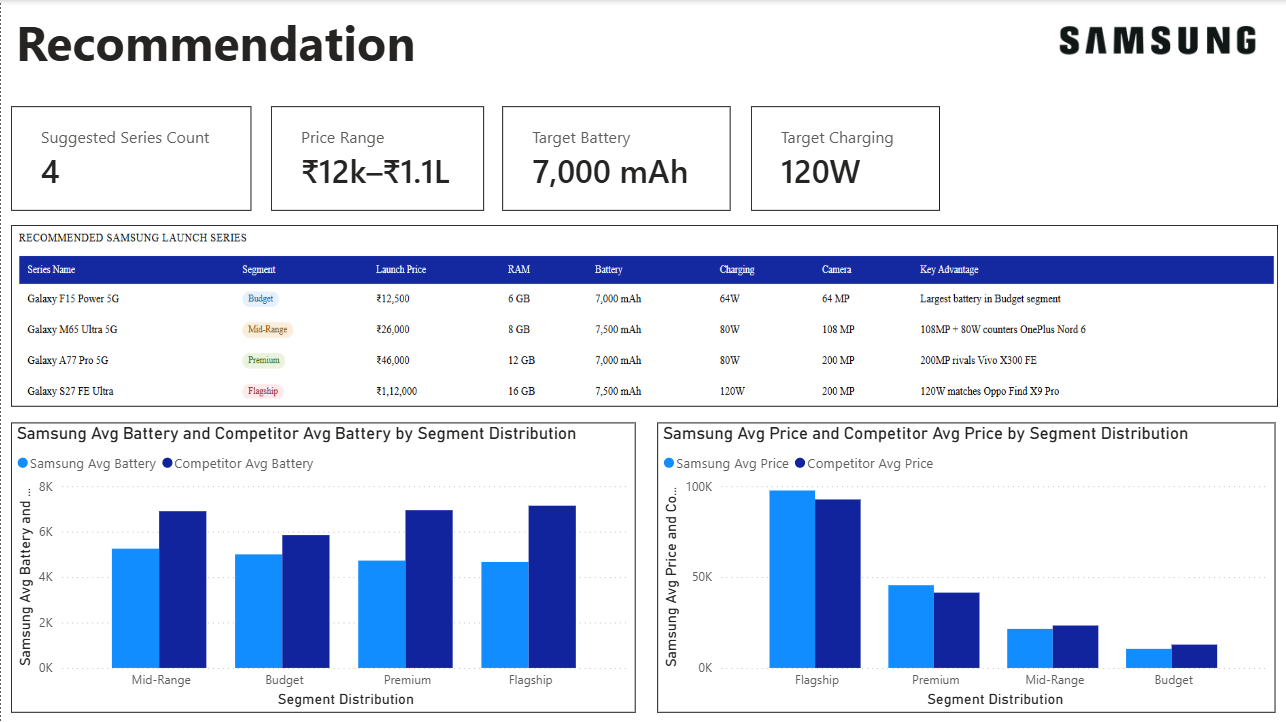

The page's visual inventory and layout, read from the dashboard file:
{"tool":"powerbi","page":{"name":"Recommend","canvas":[1280,720],"ordinal":4},"visuals":[{"type":"image","box":[1035.2,0,232.4,80.3],"z":0},{"type":"clusteredColumnChart","fields":{"Y":["MobileTable.Samsung Avg Battery","MobileTable.Competitor Avg Battery"],"Category":["MobileTable.Segment Distribution"]},"box":[9.5,420.3,621.6,289.2],"z":1000},{"type":"clusteredColumnChart","fields":{"Y":["MobileTable.Samsung Avg Price","MobileTable.Competitor Avg Price"],"Category":["MobileTable.Segment Distribution"]},"box":[652.7,420.3,614.9,289.2],"z":2000},{"type":"cardVisual","fields":{"Data":["MobileTable.Suggested Series Count"]},"box":[9.5,105.4,239.2,104.1],"z":3000},{"type":"cardVisual","fields":{"Data":["MobileTable.Target Battery"]},"box":[498.6,105.4,227,104.1],"z":4000},{"type":"cardVisual","fields":{"Data":["MobileTable.Target Charging"]},"box":[745.9,105.4,187.8,104.1],"z":5000},{"type":"cardVisual","fields":{"Data":["MobileTable.Price Range"]},"box":[268.9,105.4,212.2,104.1],"z":6000},{"type":"textbox","box":[9.5,4.1,427,77],"z":7000},{"type":"image","box":[9.5,224.3,1260.8,181.1],"z":8000}]}

Visuals, with their boxes in screenshot pixels (x1, y1, x2, y2), scaled from the page's 1280x720 canvas onto the 1286x722 screenshot:
image: x1=1040, y1=0, x2=1274, y2=81
clusteredColumnChart - MobileTable.Samsung Avg Battery x MobileTable.Competitor Avg Battery: x1=10, y1=421, x2=634, y2=711
clusteredColumnChart - MobileTable.Samsung Avg Price x MobileTable.Competitor Avg Price: x1=656, y1=421, x2=1274, y2=711
cardVisual - MobileTable.Suggested Series Count: x1=10, y1=106, x2=250, y2=210
cardVisual - MobileTable.Target Battery: x1=501, y1=106, x2=729, y2=210
cardVisual - MobileTable.Target Charging: x1=749, y1=106, x2=938, y2=210
cardVisual - MobileTable.Price Range: x1=270, y1=106, x2=483, y2=210
textbox: x1=10, y1=4, x2=439, y2=81
image: x1=10, y1=225, x2=1276, y2=407
